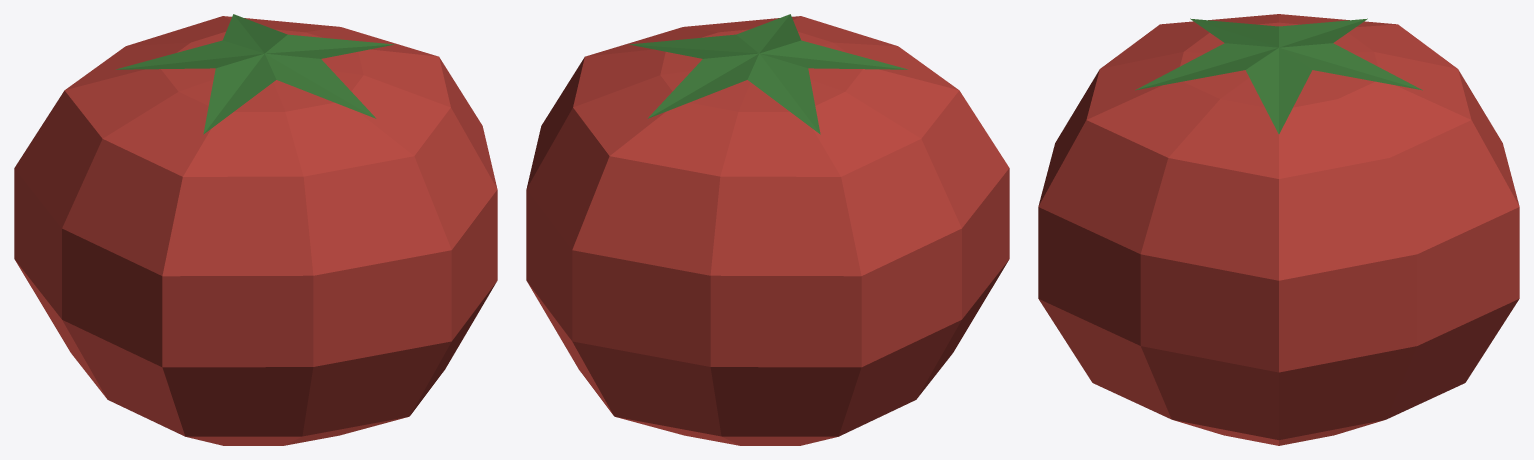
The model's file is FD_Tomato_01.glb.
3 views of the same model, side by side, from view 1: azimuth 30°, elevation 25°; view 2: azimuth 150°, elevation 25°; view 3: azimuth 270°, elevation 25° (orthographic).
Visible parts, largest first — view 1: FD_Tomato_01; view 2: FD_Tomato_01; view 3: FD_Tomato_01.
Boxes of the visible parts, x1,y1,x2,y2 form: FD_Tomato_01: (14,14,497,445); FD_Tomato_01: (526,14,1009,445); FD_Tomato_01: (1038,14,1519,445).
Size of the model in its own units: 0.0772 by 0.062 by 0.0761.
Materials: 1 (1 with a texture image).
